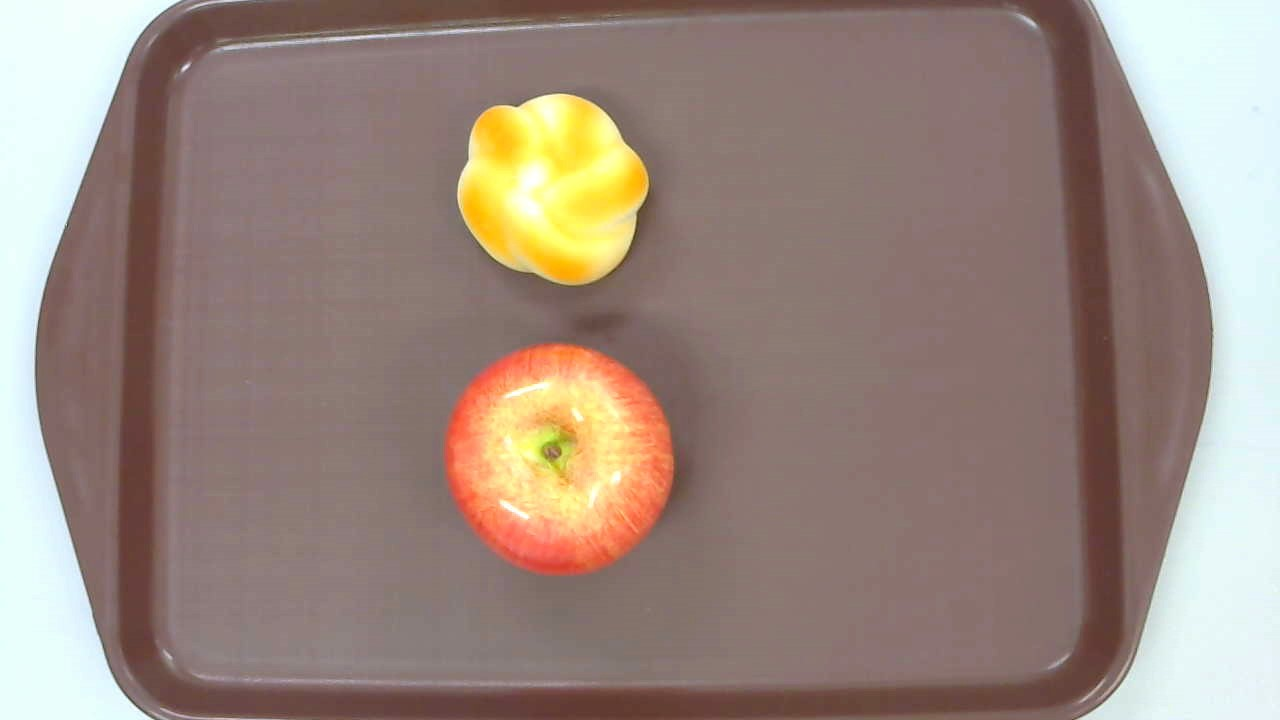red apple: (443, 344, 674, 576)
twist bread: (456, 94, 648, 286)
